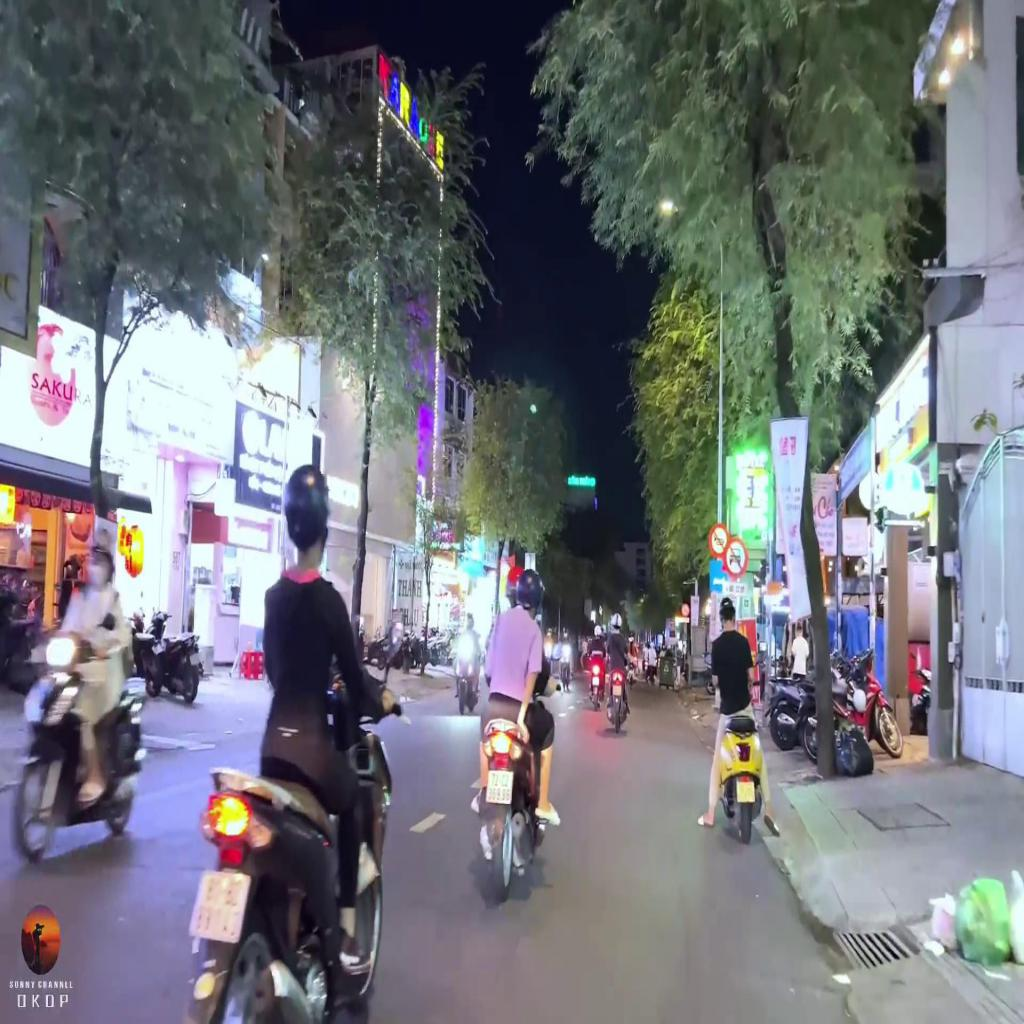cam_o_to: (724, 536, 749, 578)
cam_su_dung_coi: (708, 522, 730, 558)
khac: (710, 560, 726, 594), (725, 582, 746, 598)
